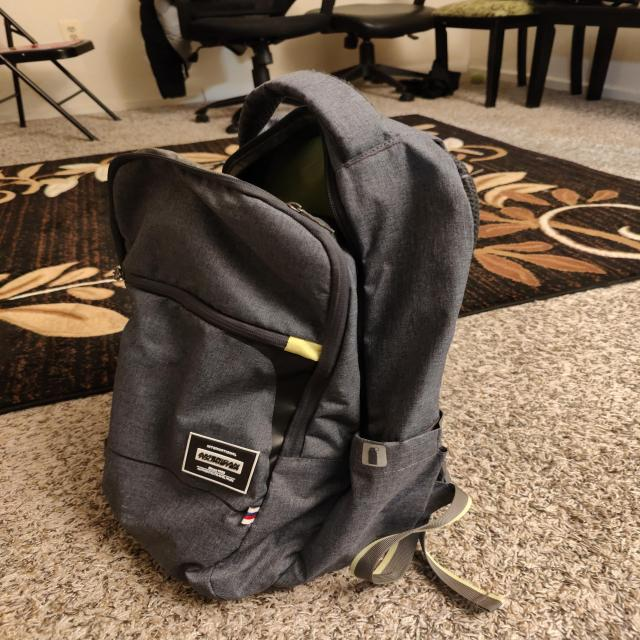bag: (118, 76, 442, 589)
